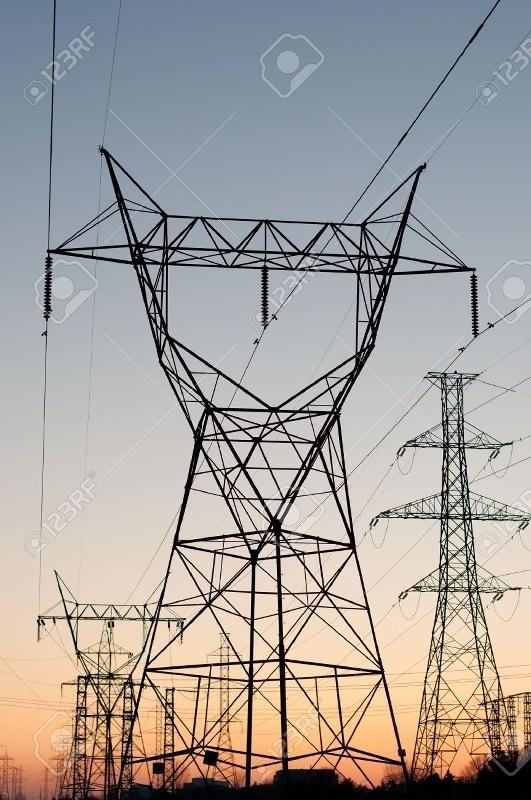power_tower: (37, 141, 491, 777), (379, 365, 522, 776), (23, 572, 201, 779)
